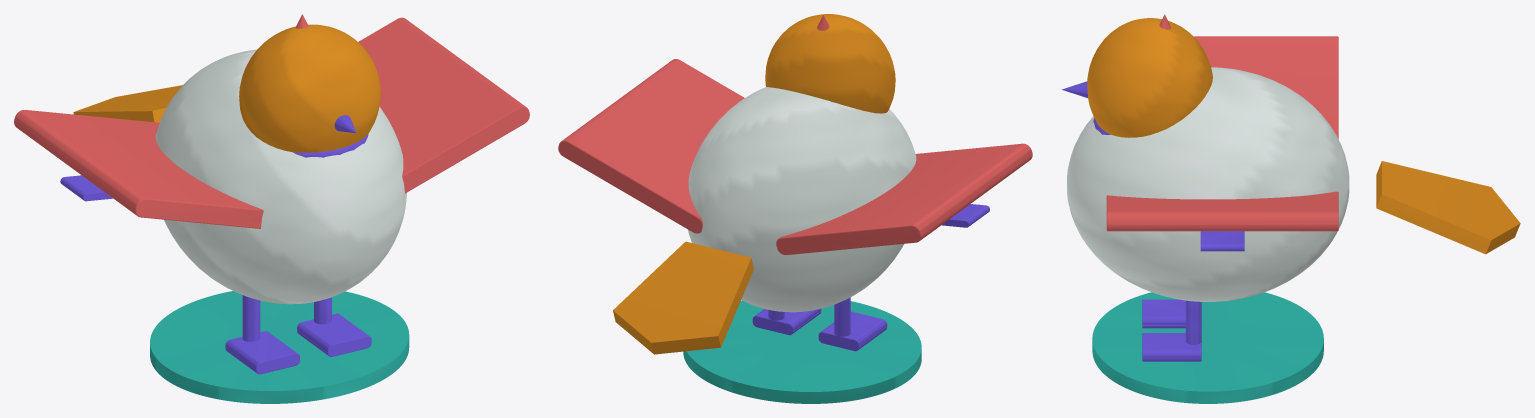
The model's file is 0076_鸟类图鉴_鸳鸯.glb.
3 renders of one model, left to right at view 1: azimuth 30°, elevation 25°; view 2: azimuth 150°, elevation 25°; view 3: azimuth 270°, elevation 25°, orthographic. The views are drawn at different scales.
Visible parts, largest first — view 1: card_0076; view 2: card_0076; view 3: card_0076.
Part boxes in pixels (<box>): card_0076: <box>14,14,529,403</box>; card_0076: <box>558,14,1032,403</box>; card_0076: <box>1062,14,1520,403</box>.
Bounding box in the file's own units: 1.18 × 1 × 1.24.
